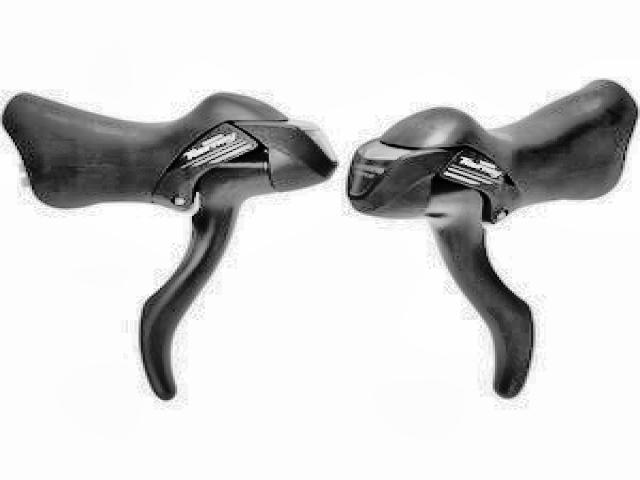sti_shifter: (8, 90, 338, 404), (346, 79, 634, 402)
